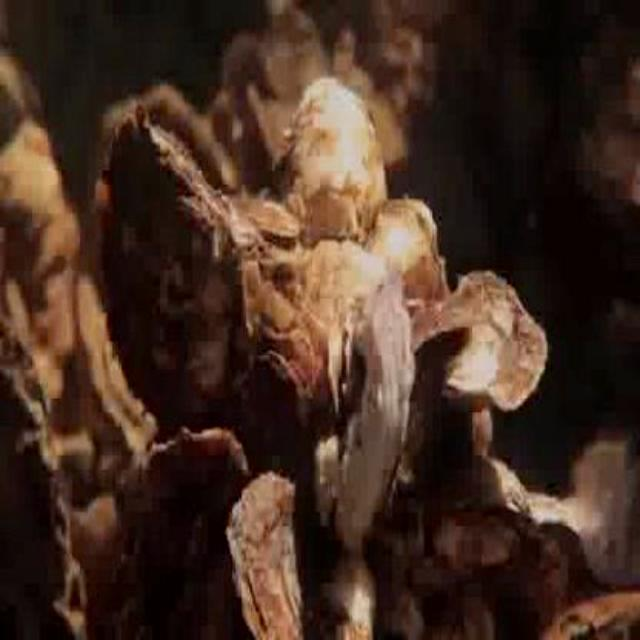Oyster-Closed: (99, 120, 261, 427), (0, 326, 90, 638), (337, 280, 415, 546), (126, 426, 251, 578), (427, 269, 550, 413), (231, 475, 326, 638), (287, 81, 385, 235), (100, 82, 239, 188), (298, 241, 381, 356), (368, 196, 447, 300), (441, 444, 531, 520), (266, 6, 329, 112), (260, 343, 312, 442), (541, 591, 638, 638), (435, 517, 523, 566), (227, 32, 274, 119), (246, 89, 286, 182), (528, 489, 592, 547), (412, 310, 471, 364), (367, 96, 408, 171), (241, 199, 301, 237)
Oyster-Open: (330, 315, 365, 419)
